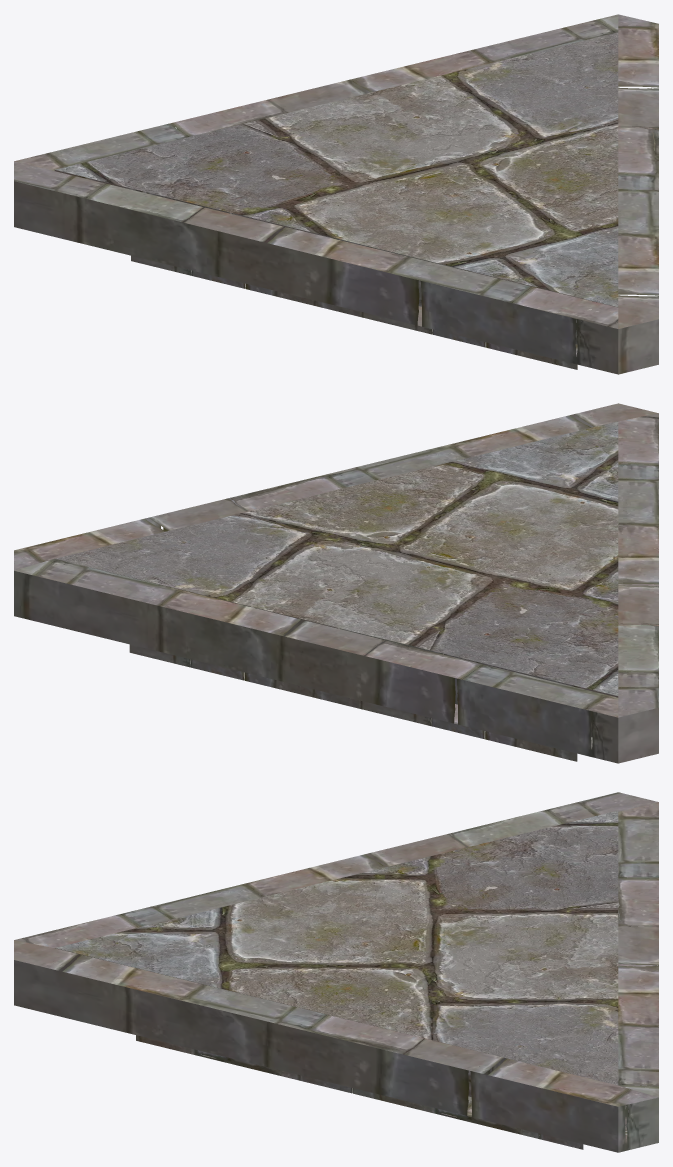
The picture shows the model from 3 angles, top to bottom: view 1: azimuth 30°, elevation 25°; view 2: azimuth 150°, elevation 25°; view 3: azimuth 270°, elevation 25°; orthographic projection.
Visible parts, largest first — view 1: SM_BB_T3_Floor_Trangle_Large_LOD0; view 2: SM_BB_T3_Floor_Trangle_Large_LOD0; view 3: SM_BB_T3_Floor_Trangle_Large_LOD0.
Part boxes in pixels (x1=…): SM_BB_T3_Floor_Trangle_Large_LOD0: x1=14, y1=14, x2=658, y2=374; SM_BB_T3_Floor_Trangle_Large_LOD0: x1=14, y1=403, x2=658, y2=763; SM_BB_T3_Floor_Trangle_Large_LOD0: x1=14, y1=792, x2=658, y2=1152.
Size of the model in its own units: 3.43 by 0.4716 by 2.97.
2 materials, 2 textured.
